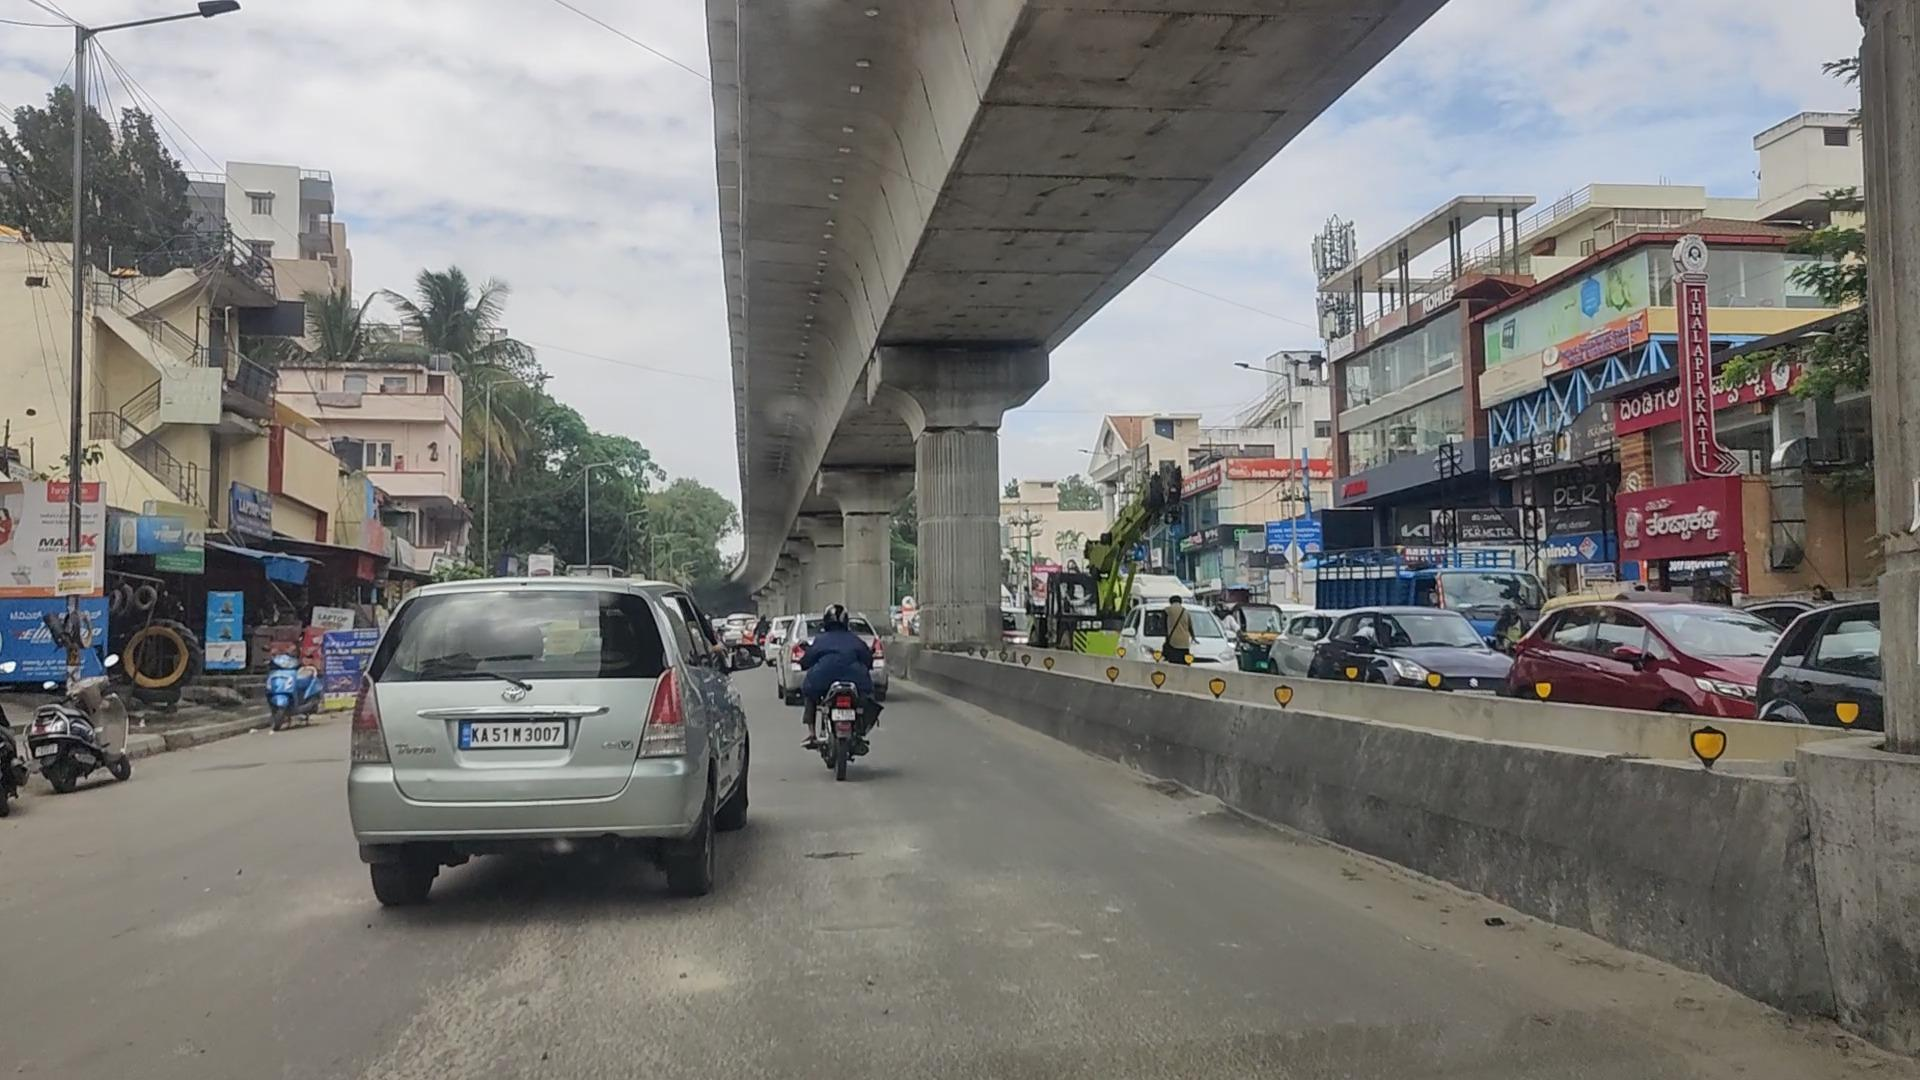LMV: (365, 580, 740, 903), (800, 609, 882, 787)
RoadDamages: (402, 938, 632, 1080)
